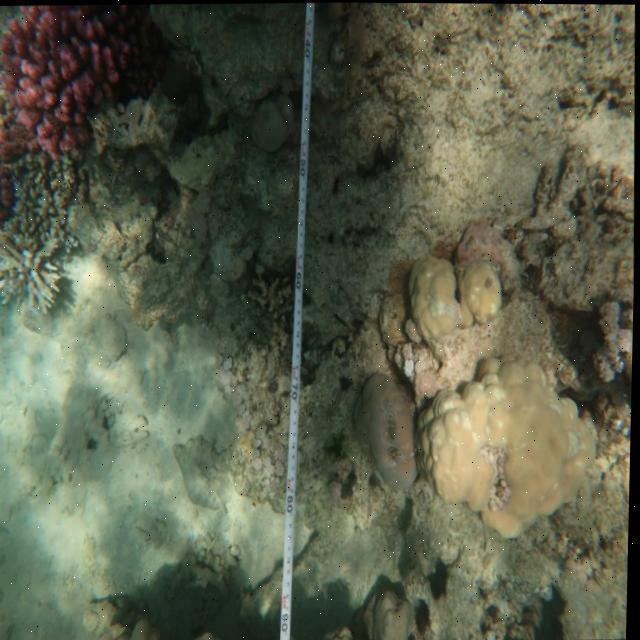Healthy Coral: (0, 3, 197, 168)
